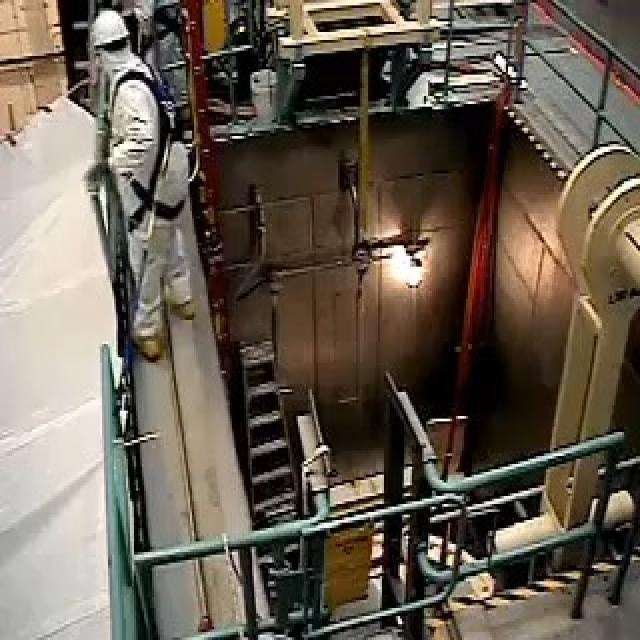Arnes_seguridad: (118, 86, 194, 225)
